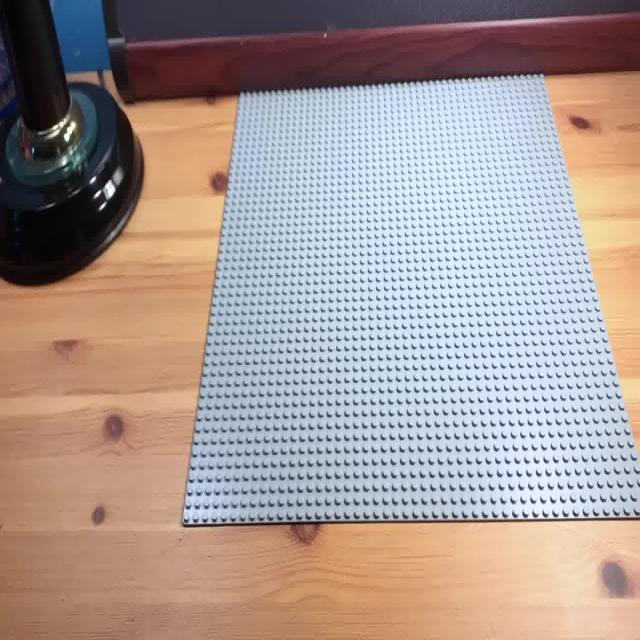figure: (187, 77, 638, 514)
